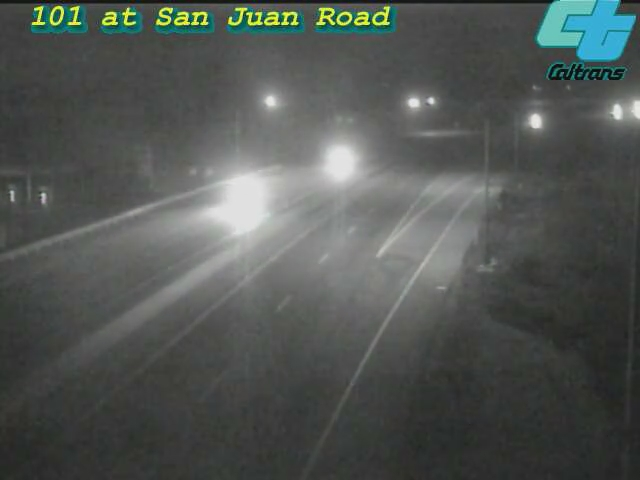vehicle: (207, 151, 287, 231), (294, 123, 374, 203), (509, 97, 559, 147), (588, 89, 638, 139), (609, 85, 640, 135)
